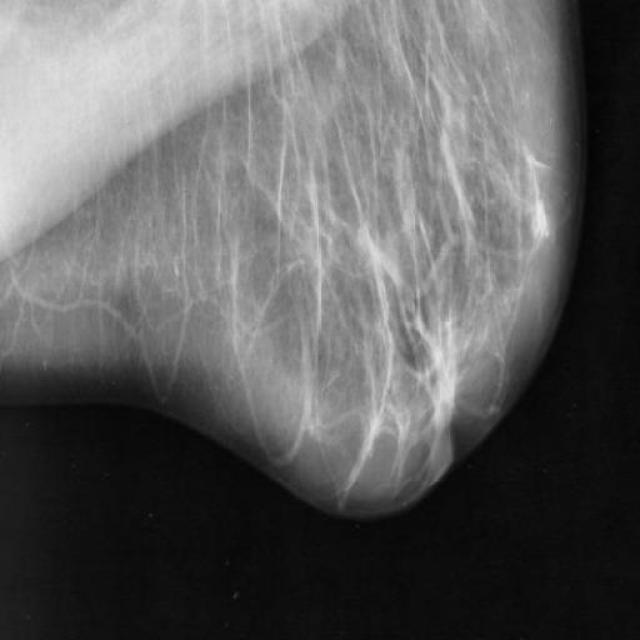cancer: (424, 326, 474, 434)
